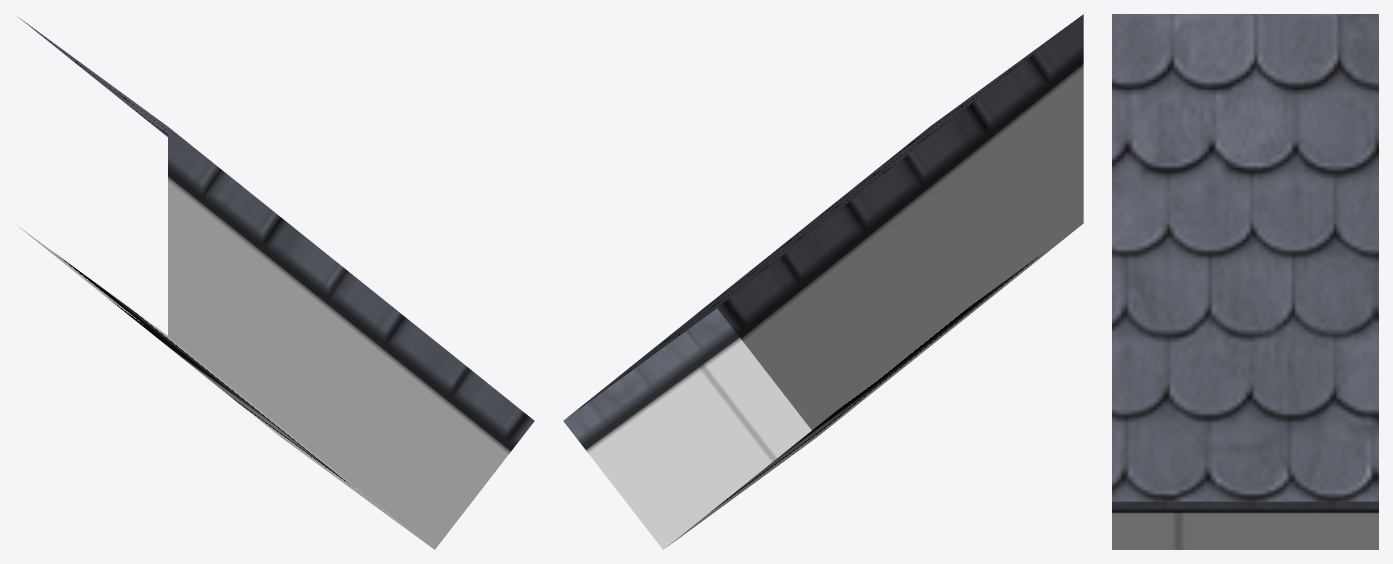
File: roofOverhangRight.fbx
3 renders of one model, left to right at view 1: azimuth 30°, elevation 25°; view 2: azimuth 150°, elevation 25°; view 3: azimuth 270°, elevation 25°, orthographic. The views are drawn at different scales.
Parts seen in each view (by area): view 1: roofOverhangRight; view 2: roofOverhangRight; view 3: roofOverhangRight.
Boxes of the visible parts, x1=… form: roofOverhangRight: x1=16, y1=15, x2=534, y2=549; roofOverhangRight: x1=563, y1=14, x2=1083, y2=549; roofOverhangRight: x1=1112, y1=14, x2=1378, y2=549.
Size of the model in its own units: 2.75 by 3.5 by 2.
Materials: 1 (1 with a texture image).
